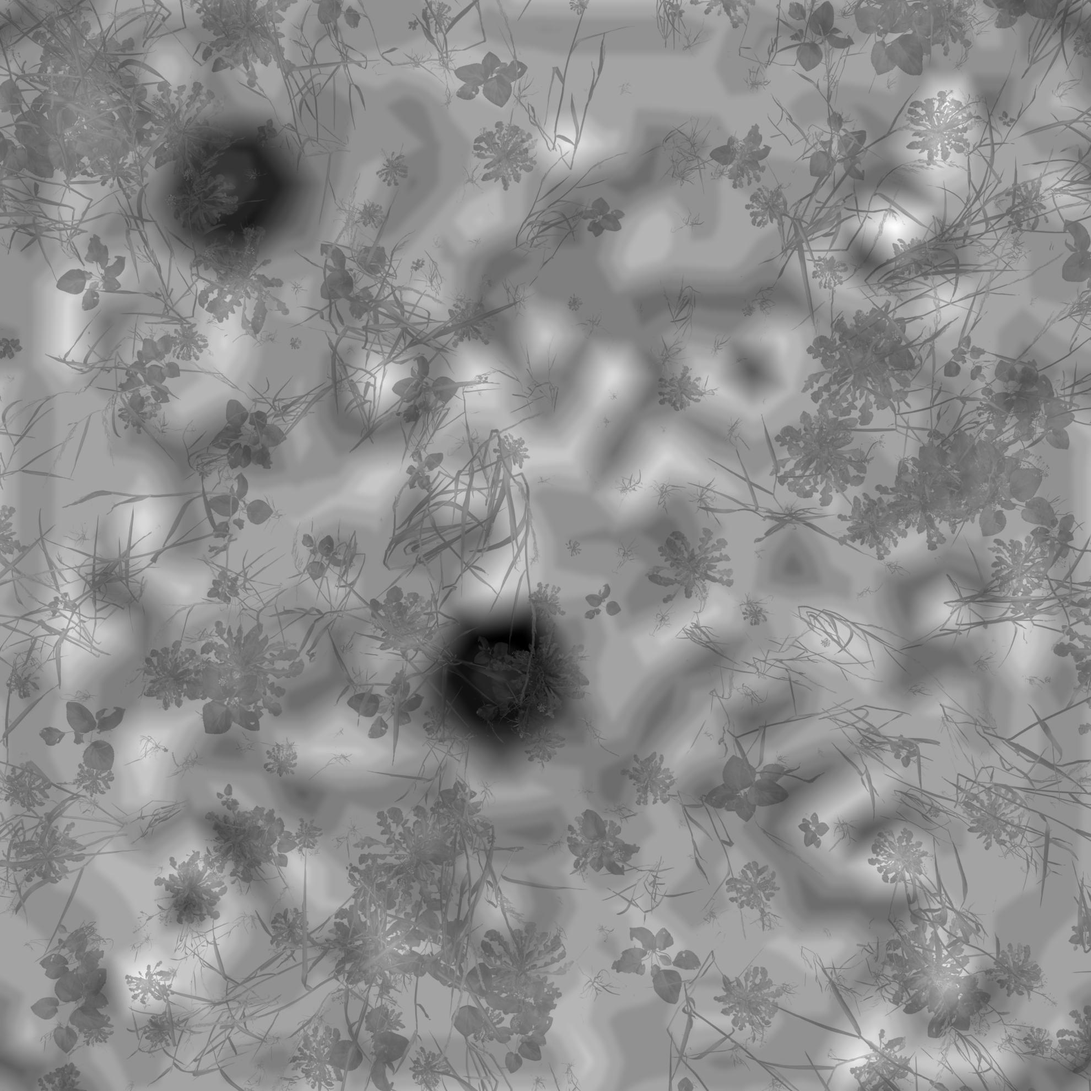landmine: (433, 600, 580, 758), (162, 129, 295, 255)
